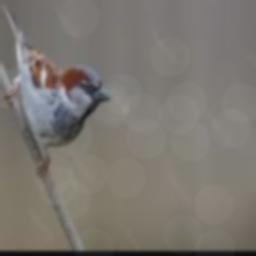Sparrow: (1, 3, 110, 177)
